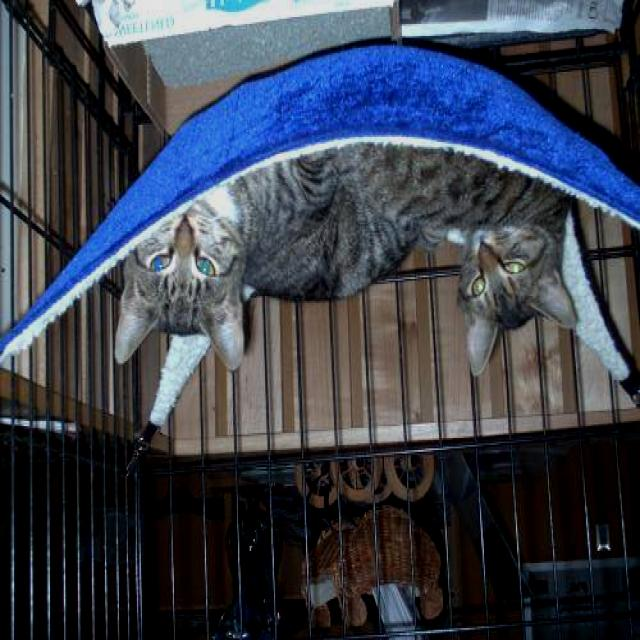Kucing: (78, 152, 280, 484), (406, 172, 608, 457)
